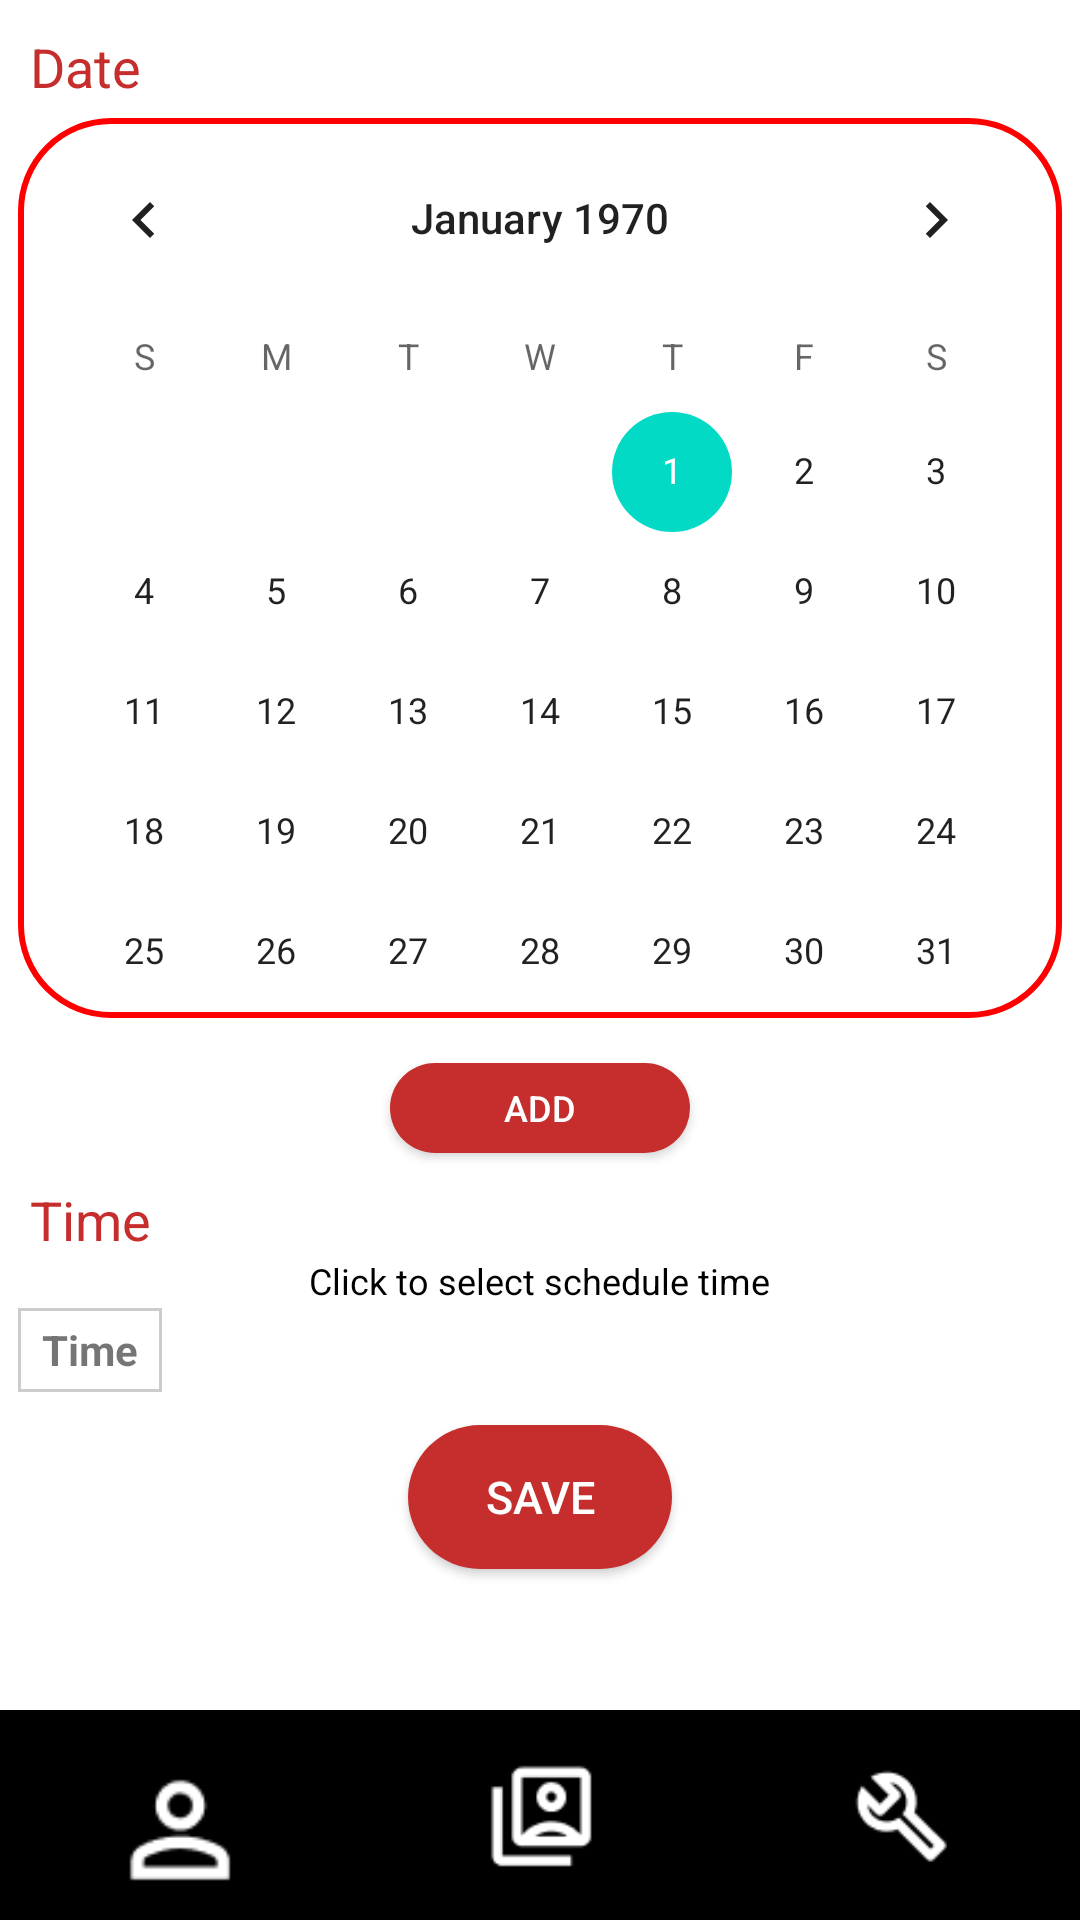

Screen size 1080 × 1920. Icon name, then its center in pixels as [x,y]:
mypage: [180,1830]
setting: [901,1816]
